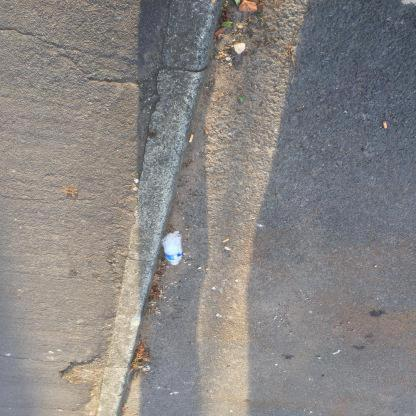Bottle cap: (160, 233, 183, 265)
Cigarette: (189, 134, 194, 142), (382, 120, 387, 128), (332, 350, 340, 355), (223, 238, 230, 242)
